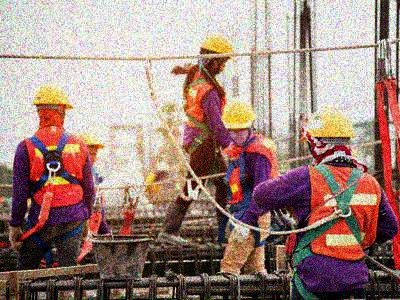helmet: (302, 106, 356, 160), (221, 95, 258, 147), (32, 84, 74, 127), (197, 33, 237, 75), (74, 131, 107, 167), (153, 160, 172, 180)
